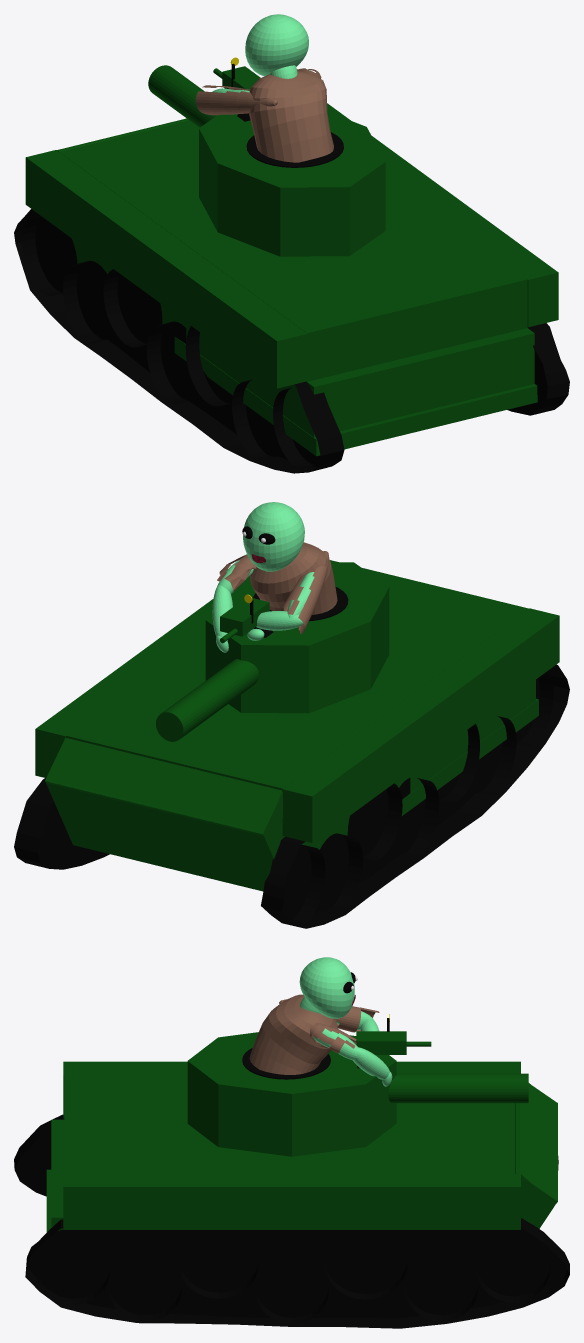
The model's file is ArmedTank.glb.
3 views of the same model, one above another, from view 1: azimuth 30°, elevation 25°; view 2: azimuth 150°, elevation 25°; view 3: azimuth 270°, elevation 25° (orthographic). The views are drawn at different scales.
Visible parts, largest first — view 1: Cube, Cylinder.001, Cube.003, Cube.001, Cube.002, Sphere.001, Sphere, Cylinder, Cylinder.002, Sphere.017, Cylinder.003, Cube.006; view 2: Cube, Cylinder.001, Cube.003, Cube.001, Cube.002, Cylinder, Cylinder.002, Sphere, Sphere.001, Sphere.017, Cube.006, Sphere.006 (+2 smaller); view 3: Cylinder, Cube, Cube.002, Cube.001, Sphere.001, Cylinder.002, Cube.003, Sphere, Cylinder.001, Cube.006, Cylinder.003, Sphere.007 (+3 smaller).
Part boxes in pixels (x1,y1,x2,y2): Cube: (57, 118, 537, 456); Cylinder.001: (14, 209, 344, 473); Cube.003: (25, 150, 307, 388); Cube.001: (199, 111, 385, 256); Cube.002: (327, 103, 558, 327); Sphere.001: (249, 71, 333, 162); Sphere: (245, 14, 308, 76); Cylinder: (507, 323, 569, 415); Cylinder.002: (148, 65, 216, 127); Sphere.017: (195, 85, 277, 115); Cylinder.003: (246, 132, 343, 167); Cube.006: (222, 66, 260, 90); Cube: (45, 560, 538, 891); Cylinder.001: (261, 664, 569, 928); Cube.003: (282, 608, 559, 842); Cube.001: (205, 562, 389, 713); Cube.002: (35, 599, 213, 777); Cylinder: (14, 778, 109, 869); Cylinder.002: (156, 659, 258, 741); Sphere: (243, 502, 304, 571); Sphere.001: (250, 542, 337, 614); Sphere.017: (283, 551, 329, 633); Cube.006: (220, 598, 269, 636); Sphere.006: (256, 611, 303, 630); Cylinder: (25, 1218, 569, 1328); Cube: (46, 1075, 557, 1232); Cube.002: (63, 1173, 520, 1229); Cube.001: (187, 1032, 396, 1156); Sphere.001: (249, 994, 337, 1074); Cylinder.002: (388, 1073, 528, 1103); Cube.003: (63, 1061, 520, 1118); Sphere: (299, 957, 354, 1018); Cylinder.001: (14, 1114, 558, 1196); Cube.006: (356, 1031, 406, 1054); Cylinder.003: (242, 1048, 330, 1079); Sphere.007: (353, 1047, 389, 1079).
Bounding box in the file's own units: 4.01 × 4.65 × 7.52.
